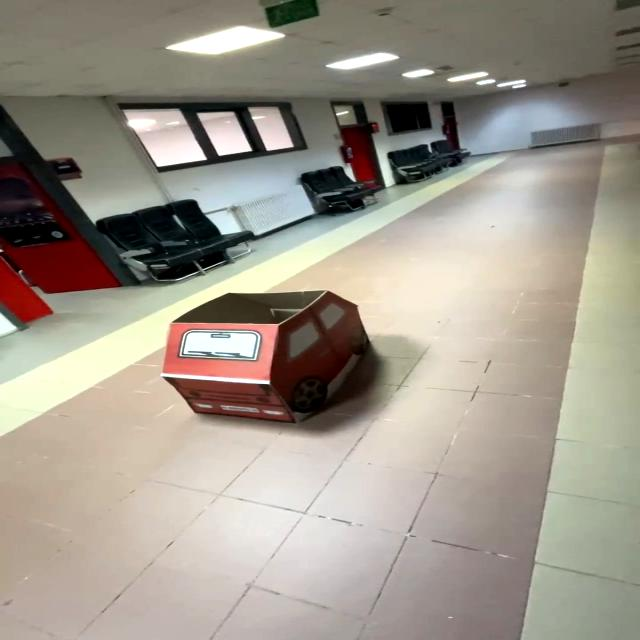red_car: (148, 279, 414, 437)
